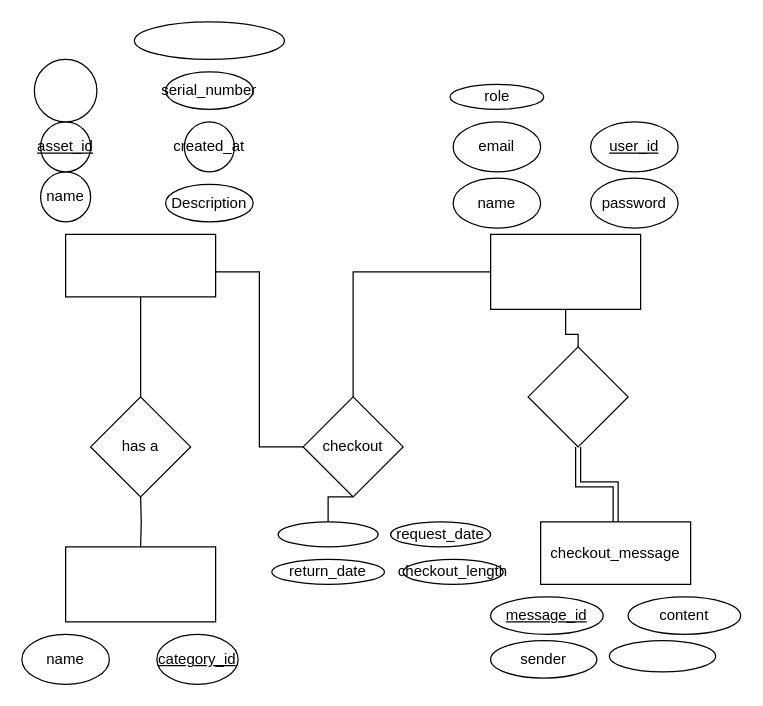
Some shapes in this 763 by 706 pixel diagram are drawn without their labels. Each missing label, with the centre of its shape:
"Asset" goes at [140,265].
"Category" goes at [140,584].
"location" goes at [208,40].
"reciever" goes at [662,655].
"sends/recieves" goes at [577,396].
"status" goes at [327,534].
"updated_at" goes at [65,90].
"user" goes at [565,271].
